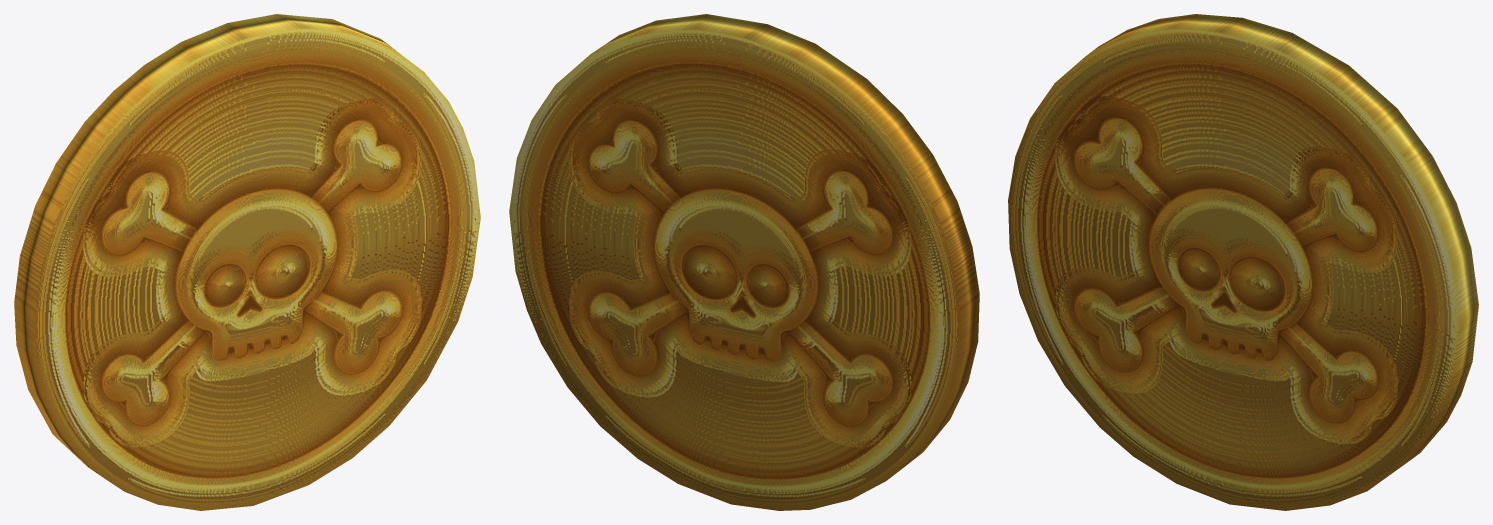
Rendered from Coin2.glb.
3 renders of one model, left to right at view 1: azimuth 30°, elevation 25°; view 2: azimuth 150°, elevation 25°; view 3: azimuth 330°, elevation 25°, orthographic.
Visible parts, largest first — view 1: Cylinder.002; view 2: Cylinder.002; view 3: Cylinder.002.
Boxes of the visible parts, bbox=[...] form: Cylinder.002: bbox=[14, 14, 480, 510]; Cylinder.002: bbox=[509, 14, 979, 510]; Cylinder.002: bbox=[1008, 14, 1478, 510].
Size of what is drawn, in the model's own units: 1.53 by 1.53 by 0.1398.
1 material, 1 textured.
